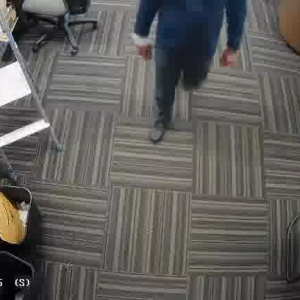person: (140, 0, 243, 147)
